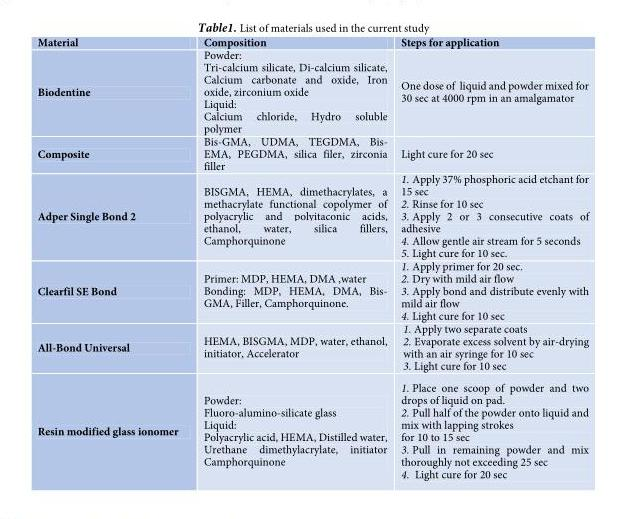table: (36, 37, 588, 480)
table column: (190, 37, 393, 480), (393, 37, 588, 480), (36, 37, 190, 480)
table column header: (36, 37, 588, 48)
table row: (36, 376, 588, 480), (36, 172, 588, 259), (36, 48, 588, 134), (36, 259, 588, 322), (36, 322, 588, 376), (36, 134, 588, 172), (36, 37, 588, 48)
